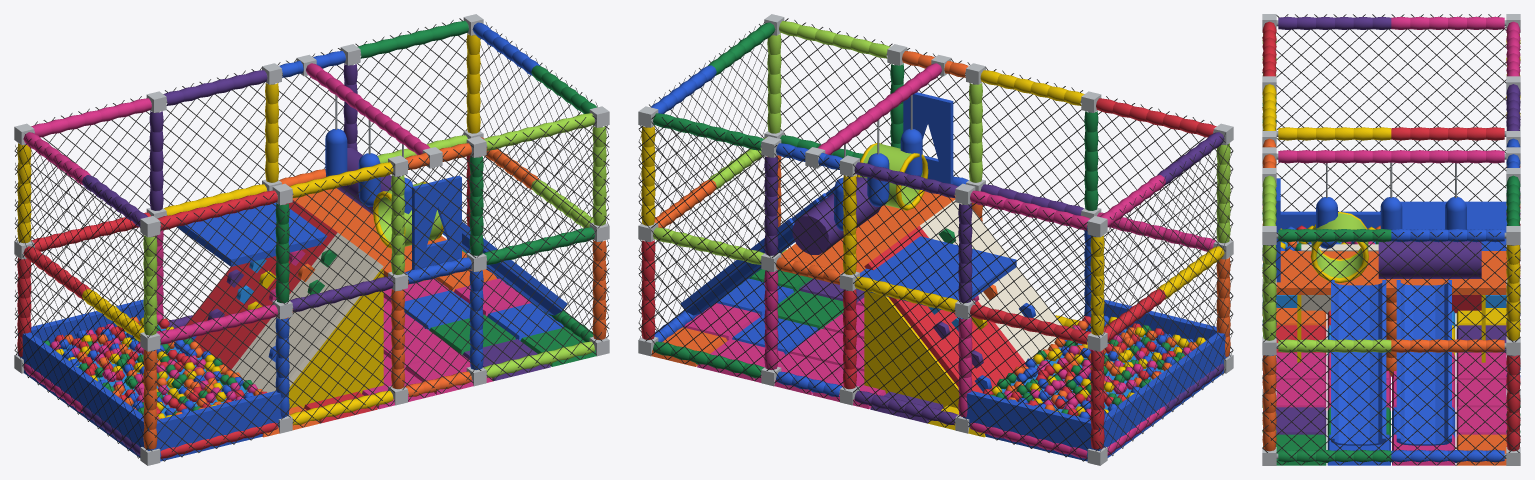
File: web.glb
3 views of the same model, side by side, from view 1: azimuth 30°, elevation 25°; view 2: azimuth 150°, elevation 25°; view 3: azimuth 270°, elevation 25° (orthographic). The views are drawn at different scales.
Parts seen in each view (by area): view 1: isotubo, rede, plataforma, acolchoado, piso, bolinhas, metal, plastico; view 2: isotubo, rede, plataforma, acolchoado, piso, bolinhas, metal, plastico; view 3: isotubo, rede, plastico, piso, plataforma, acolchoado, metal, bolinhas.
Boxes of the visible parts, x1=… form: isotubo: x1=17, y1=21, x2=606, y2=458; rede: x1=14, y1=18, x2=609, y2=461; plataforma: x1=176, y1=175, x2=469, y2=408; acolchoado: x1=18, y1=128, x2=443, y2=461; piso: x1=262, y1=269, x2=596, y2=437; bolinhas: x1=43, y1=314, x2=266, y2=419; metal: x1=14, y1=14, x2=609, y2=465; plastico: x1=191, y1=221, x2=567, y2=362; isotubo: x1=641, y1=21, x2=1230, y2=458; rede: x1=638, y1=18, x2=1233, y2=461; plataforma: x1=778, y1=92, x2=1061, y2=408; acolchoado: x1=792, y1=128, x2=1229, y2=461; piso: x1=651, y1=269, x2=985, y2=437; bolinhas: x1=983, y1=315, x2=1205, y2=419; metal: x1=638, y1=14, x2=1233, y2=465; plastico: x1=680, y1=186, x2=1036, y2=391; isotubo: x1=1262, y1=16, x2=1520, y2=462; rede: x1=1262, y1=14, x2=1520, y2=465; plastico: x1=1331, y1=280, x2=1451, y2=445; piso: x1=1263, y1=308, x2=1519, y2=465; plataforma: x1=1275, y1=178, x2=1507, y2=362; acolchoado: x1=1276, y1=197, x2=1506, y2=313; metal: x1=1262, y1=14, x2=1520, y2=465; bolinhas: x1=1280, y1=225, x2=1380, y2=250.
Bounding box in the file's own units: 4 × 2 × 2.
Materials: 8 (8 with a texture image).
